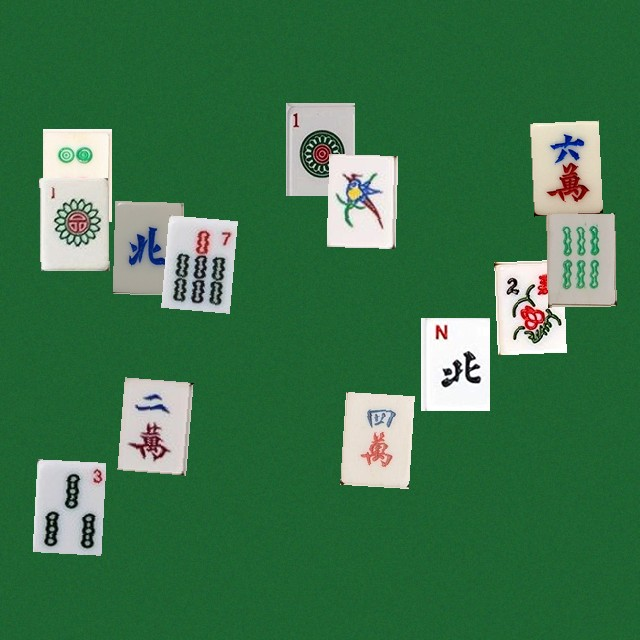tile: (285, 102, 354, 195), (42, 128, 111, 221), (340, 391, 409, 484), (117, 377, 186, 470), (112, 201, 181, 294), (32, 459, 101, 552), (494, 259, 563, 352), (420, 317, 489, 410), (529, 120, 598, 213), (39, 177, 108, 270), (546, 213, 615, 306), (326, 154, 395, 247), (161, 215, 230, 308)
